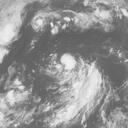cyclone: (59, 52, 97, 91)
